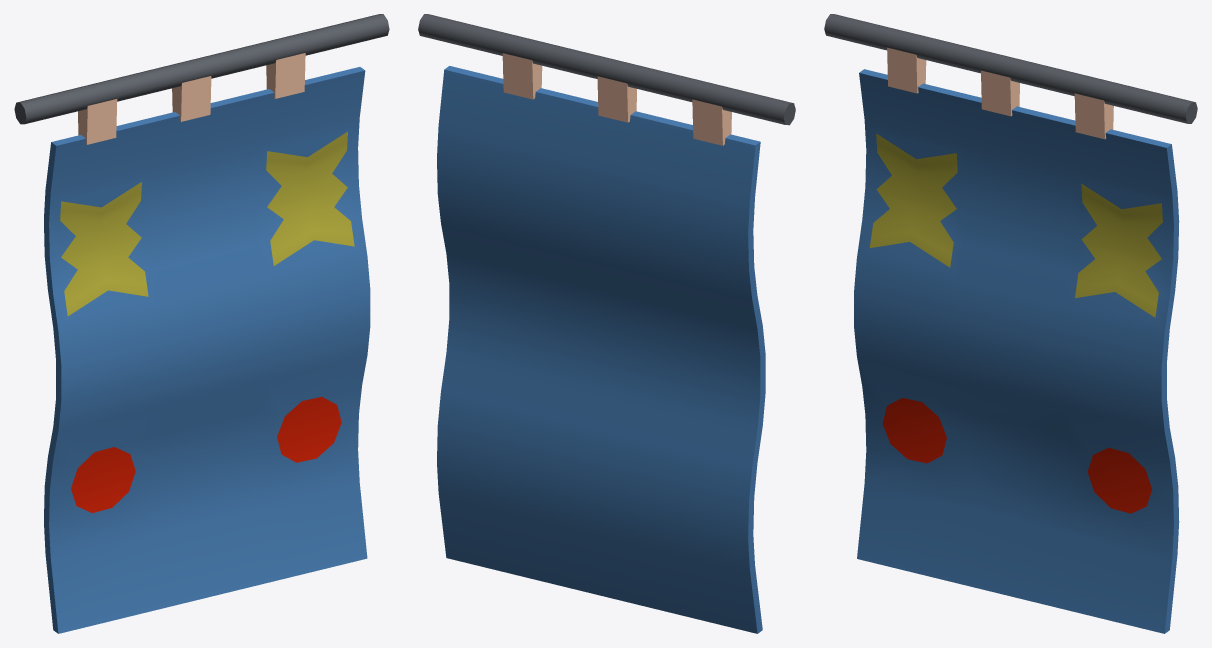
The model's file is Sign_4.fbx.
3 renders of one model, left to right at view 1: azimuth 30°, elevation 25°; view 2: azimuth 150°, elevation 25°; view 3: azimuth 330°, elevation 25°, orthographic.
Visible parts, largest first — view 1: Sign_4; view 2: Sign_4; view 3: Sign_4.
Part boxes in pixels (box(x1,y1,x2,y2)): Sign_4: box(14, 14, 389, 633); Sign_4: box(418, 14, 795, 633); Sign_4: box(824, 14, 1197, 633).
Bounding box in the file's own units: 90.42 × 127 × 7.54.
